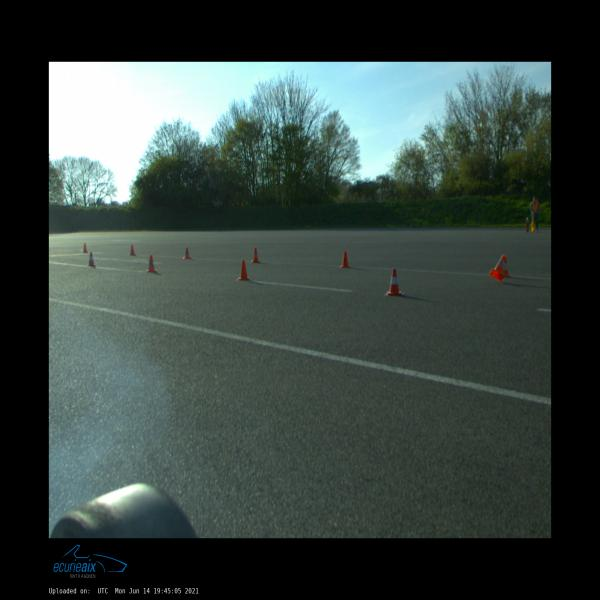orange_cone: (385, 269, 404, 296), (489, 254, 506, 282), (236, 260, 251, 280), (146, 255, 157, 272), (340, 251, 350, 268), (503, 258, 511, 278), (252, 248, 260, 262), (88, 252, 95, 266), (183, 247, 191, 259), (82, 242, 88, 252), (130, 244, 134, 255)
